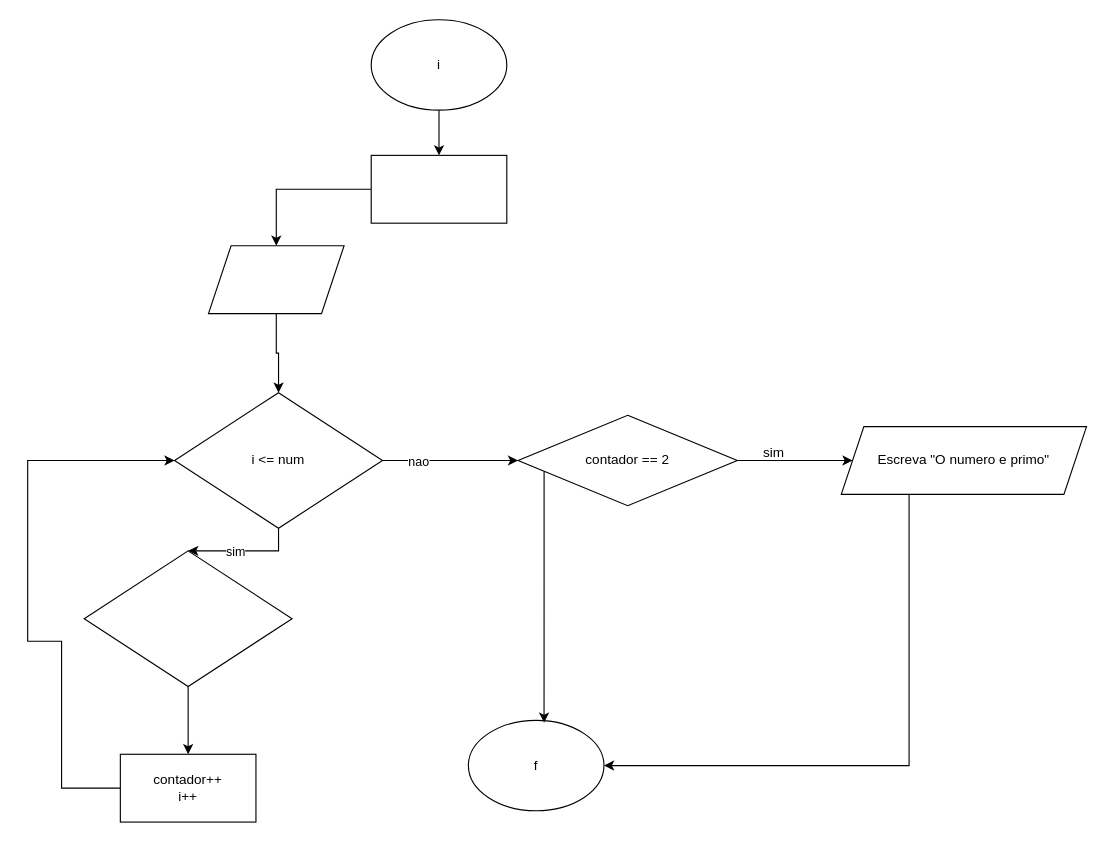
This 1106x842 diagram has some shape labels left out. The centre of each missing label's shape, as x and y in pixels:
contador = 0 i = 1: the point at 438,188
ler num: the point at 275,279
num MOD i == 0: the point at 187,618
